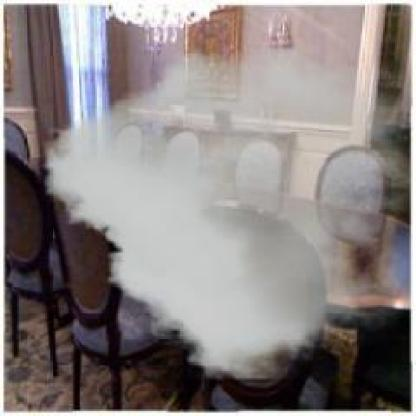Smoke: (45, 44, 413, 379)
